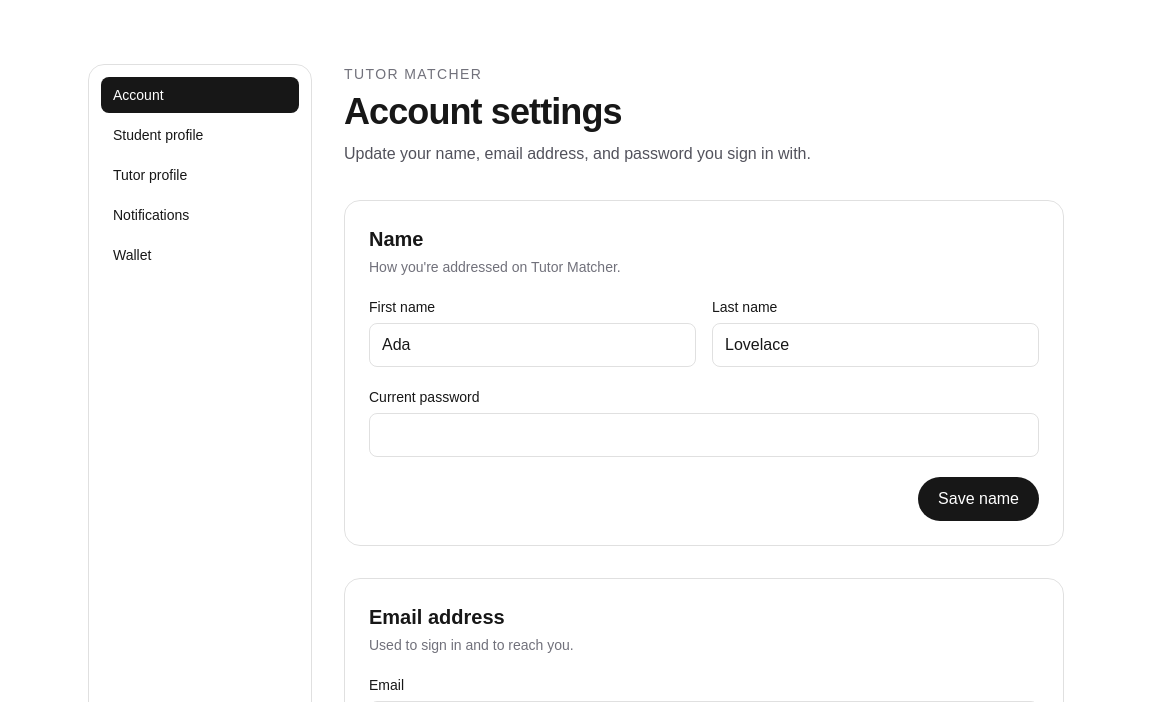
Scenario: AccountSettingsPage › name block › requires the current password before saving
Step 1. Replace the text in the field labelled "First name" with "Grace" → [532, 345], box [369,323,696,367]
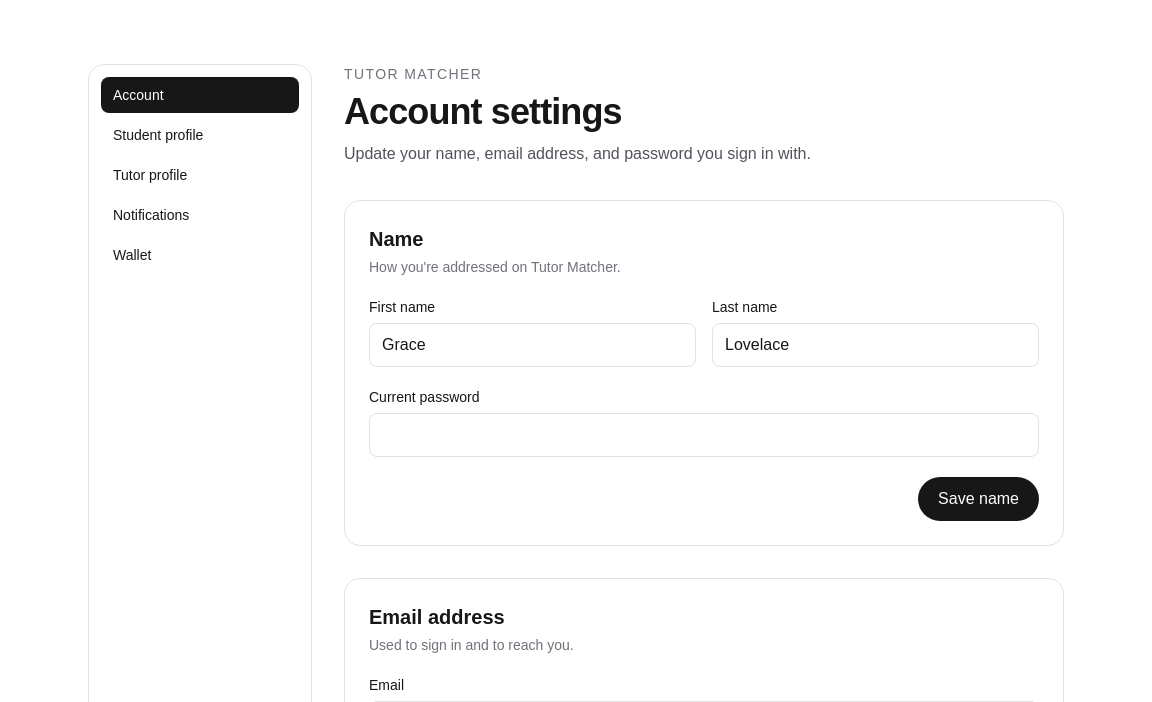
Step 2. Replace the text in the field labelled "Last name" with "Hopper" → [876, 345], box [712,323,1039,367]
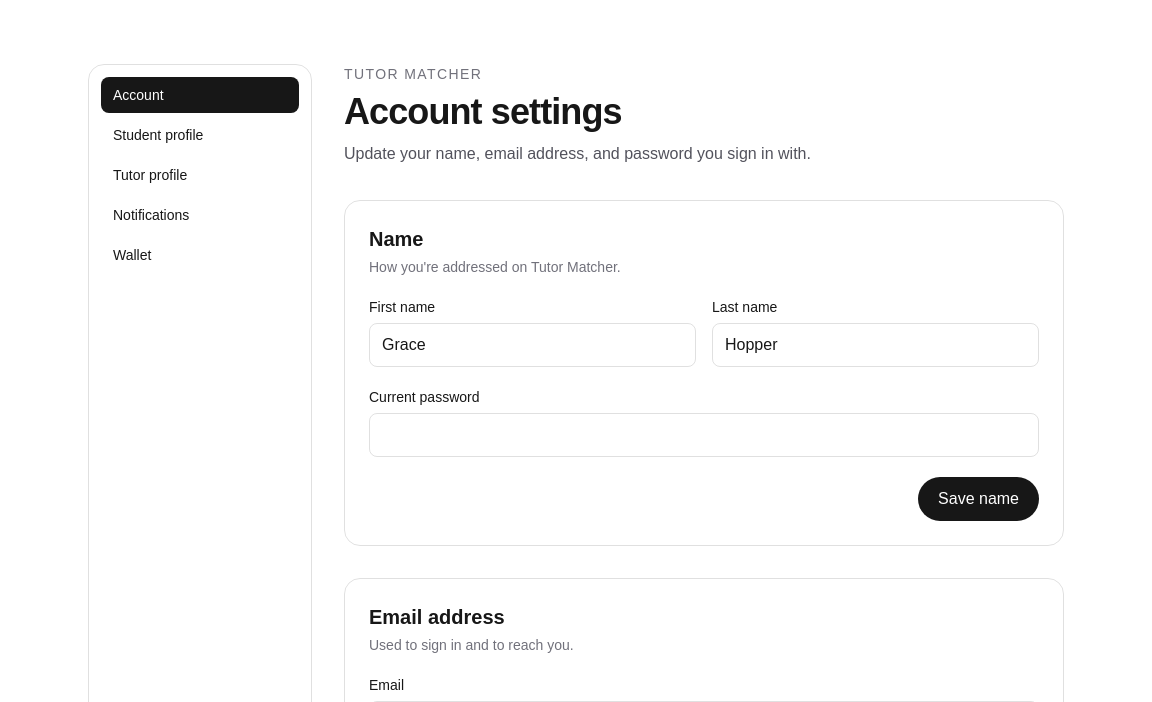
Step 3. Click the button "Save name" → [979, 499], box [918,477,1039,521]
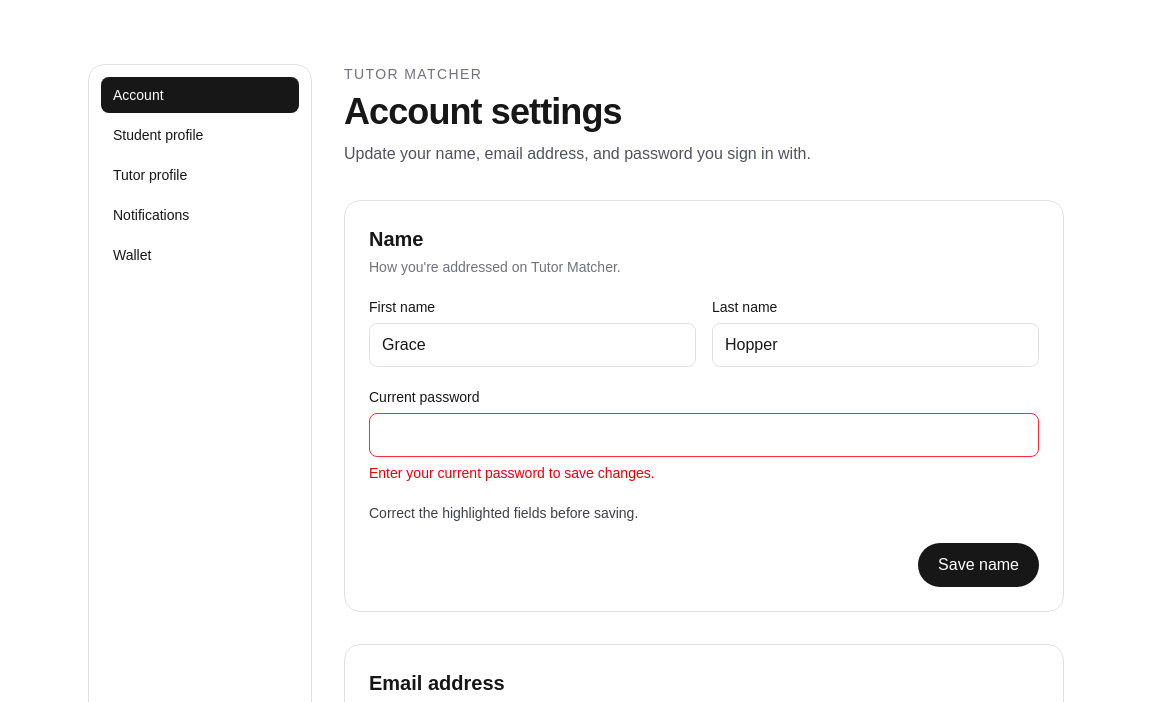
Now the text "Enter your current password to save changes." is shown, box [369,465,655,481]
